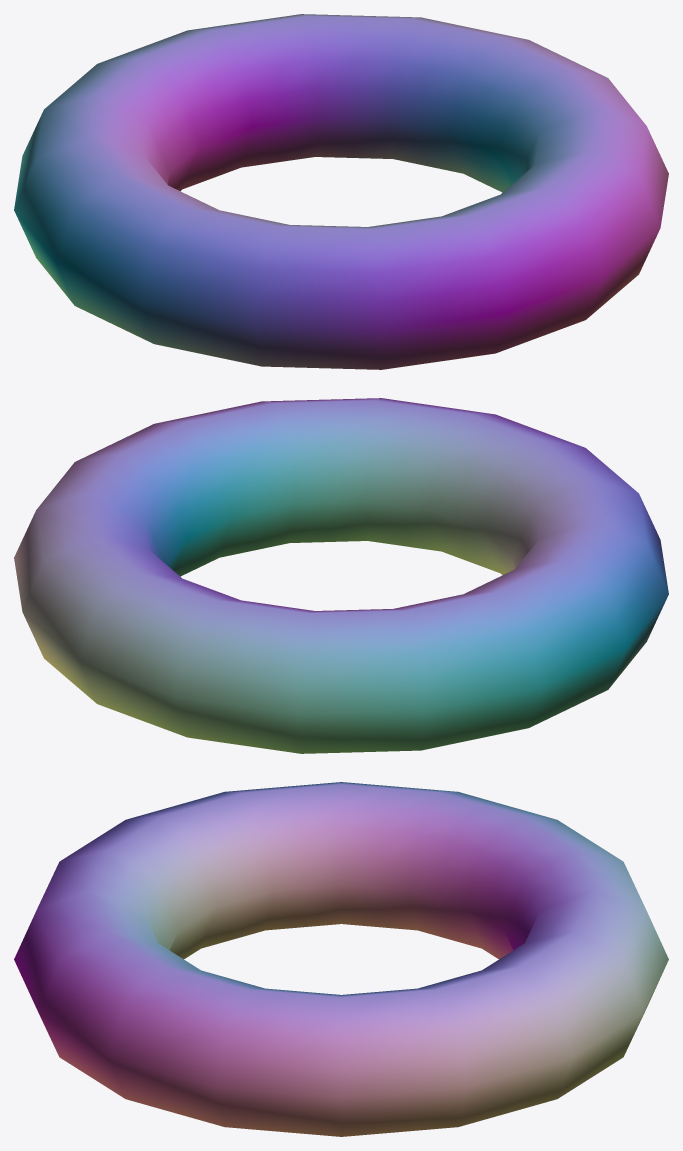
File: SuperToroid.fbx
3 views of the same model, one above another, from view 1: azimuth 30°, elevation 25°; view 2: azimuth 150°, elevation 25°; view 3: azimuth 270°, elevation 25° (orthographic).
Visible parts, largest first — view 1: SuperToroid; view 2: SuperToroid; view 3: SuperToroid.
Part boxes in pixels (x1=…): SuperToroid: x1=14, y1=14, x2=668, y2=369; SuperToroid: x1=14, y1=398, x2=668, y2=753; SuperToroid: x1=14, y1=782, x2=668, y2=1136.
Bounding box in the file's own units: 260 × 60 × 260.
